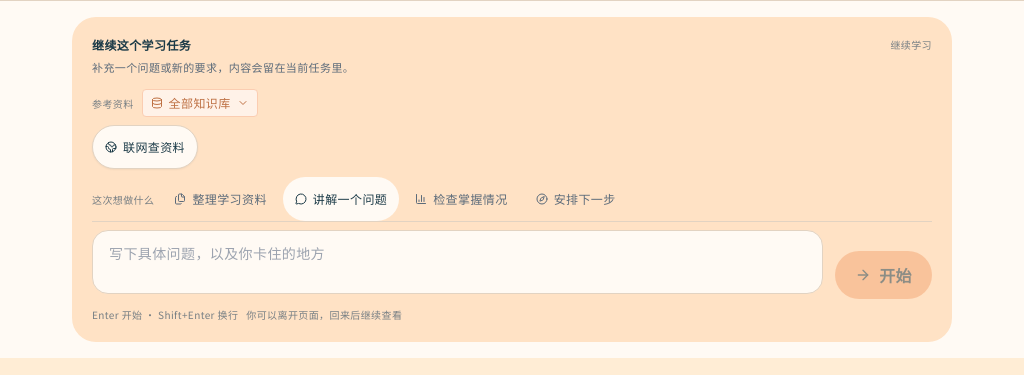
Test: ChatComposer draft web search › never deletes an existing conversation when its settings PATCH fails
In the text box: (458, 262) [92,230,823,294], type "new question"
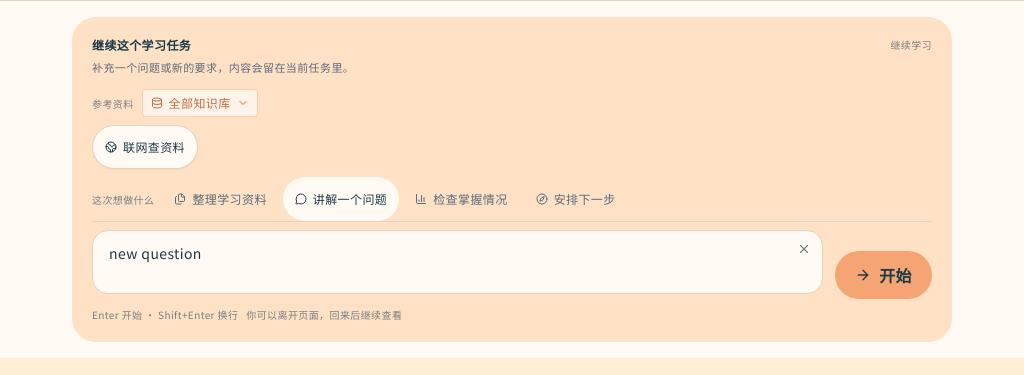
Click the button with aria-label "发送": click(884, 275) [835,251,932,299]
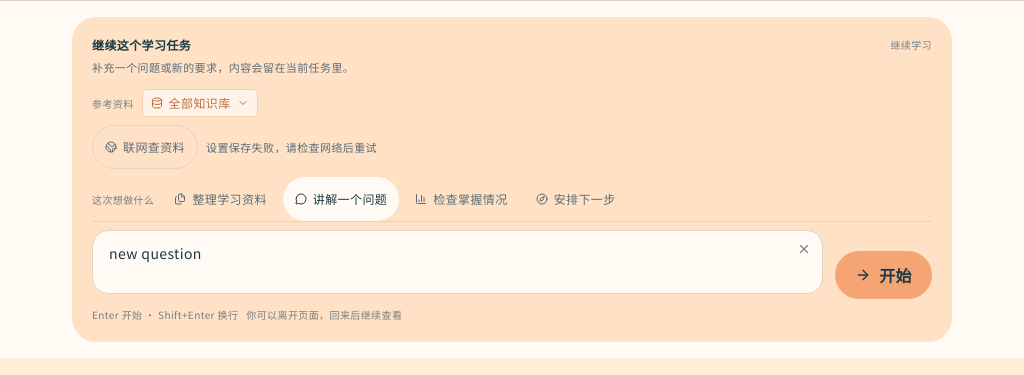
Check: the message shows "设置保存失败", box [206,139,377,155]
